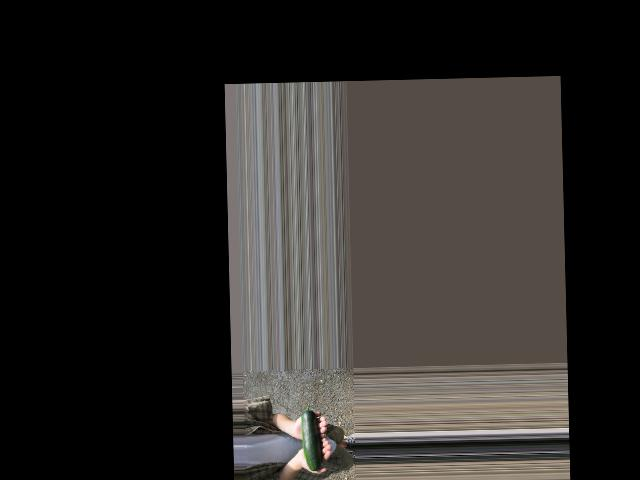cucumber: (301, 402, 322, 470)
